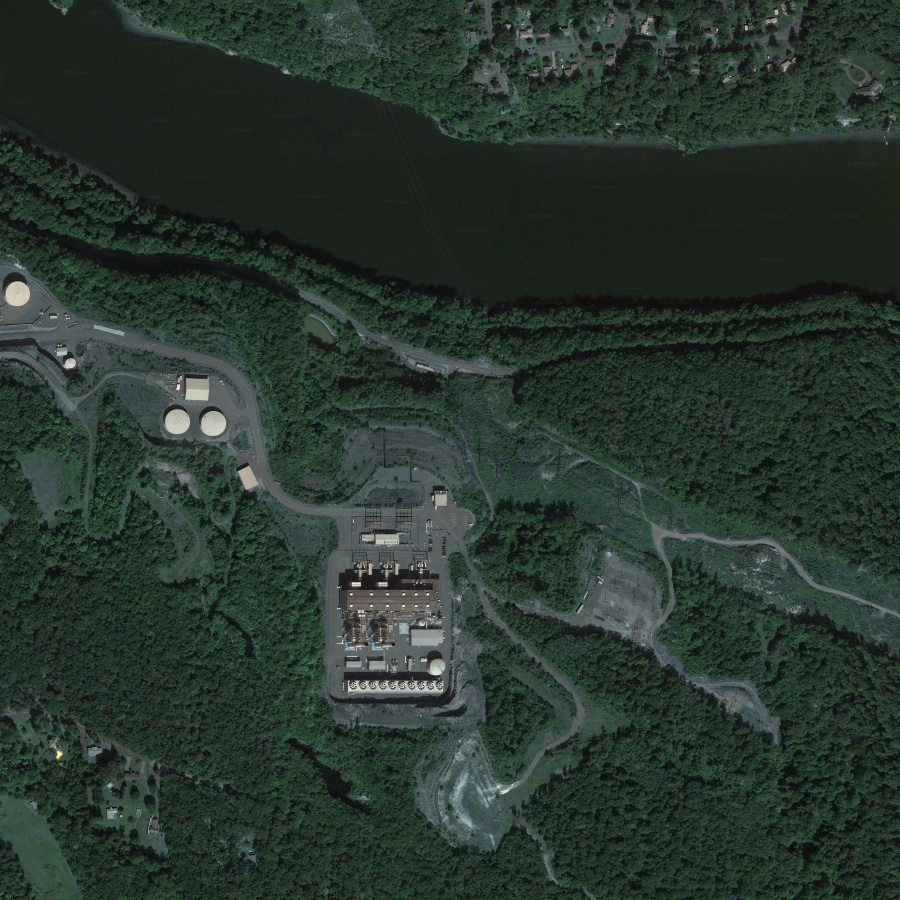PowerPlant: (330, 470, 476, 710)
